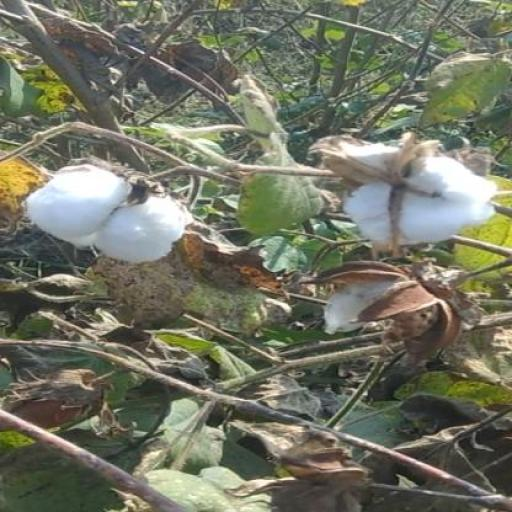cotton_ready: (297, 122, 501, 262), (19, 148, 216, 270)
